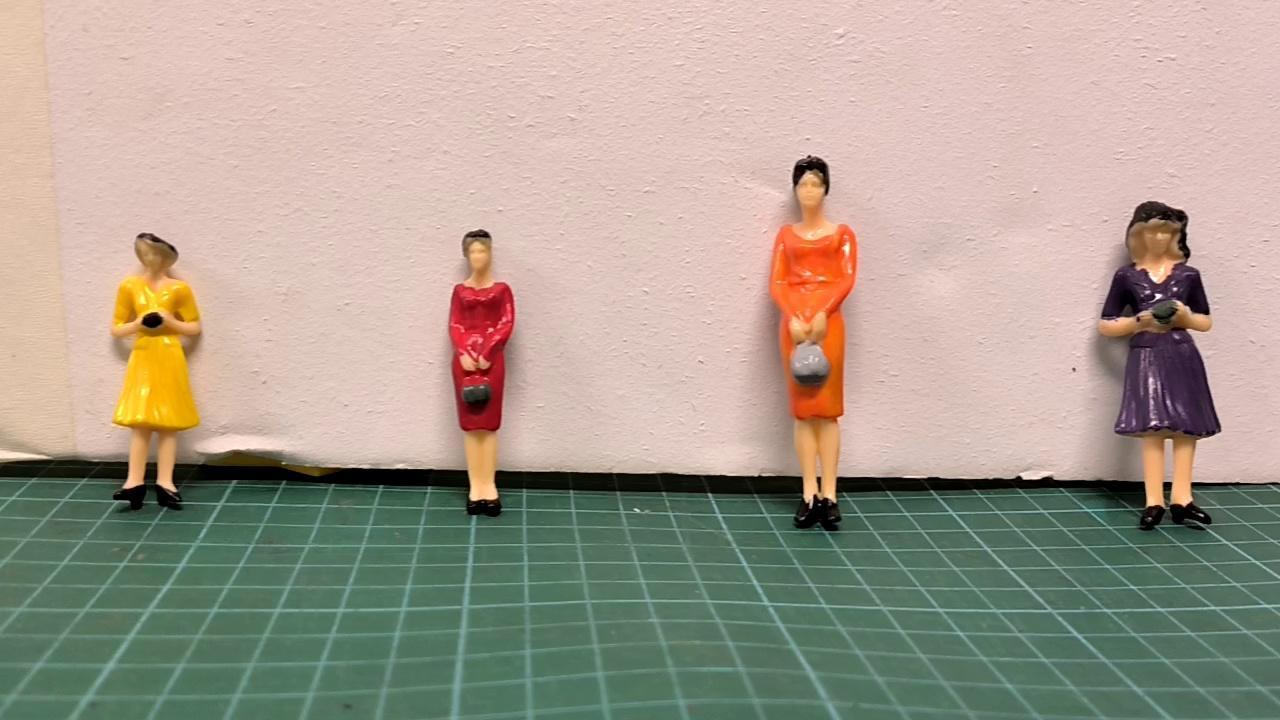human: (1096, 199, 1227, 532), (769, 152, 857, 532), (107, 229, 204, 515), (446, 225, 518, 522)
